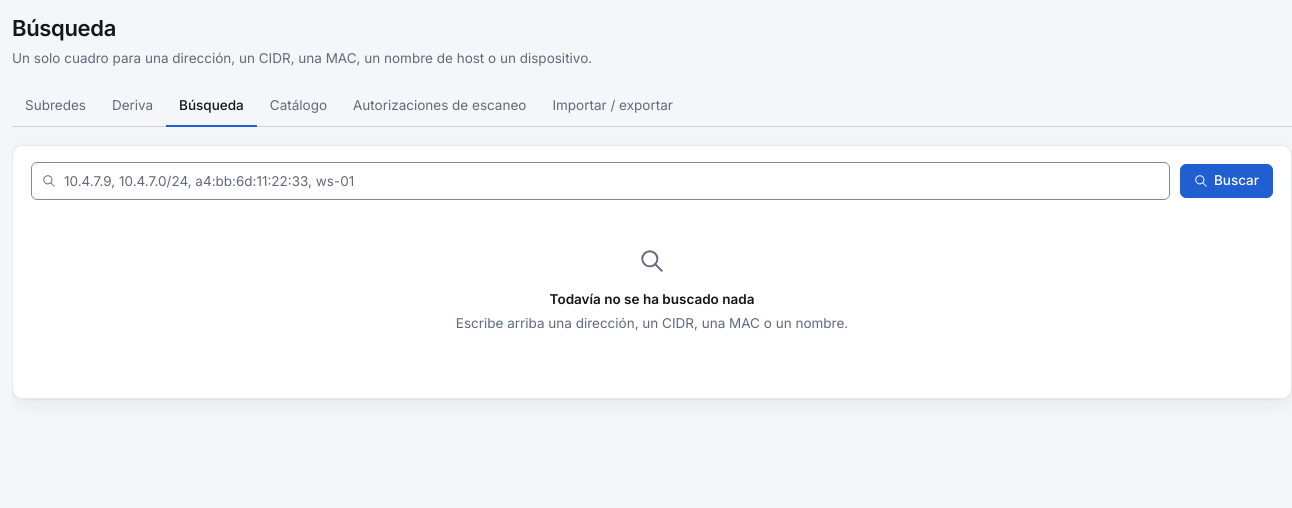
Test: the search page in Spanish › re-words a search result on a live language switch
In the field named "Buscar direcciones, subredes y dispositivos": (600, 181) [31, 162, 1170, 200], type "10.20.9.14"
Then press Enter
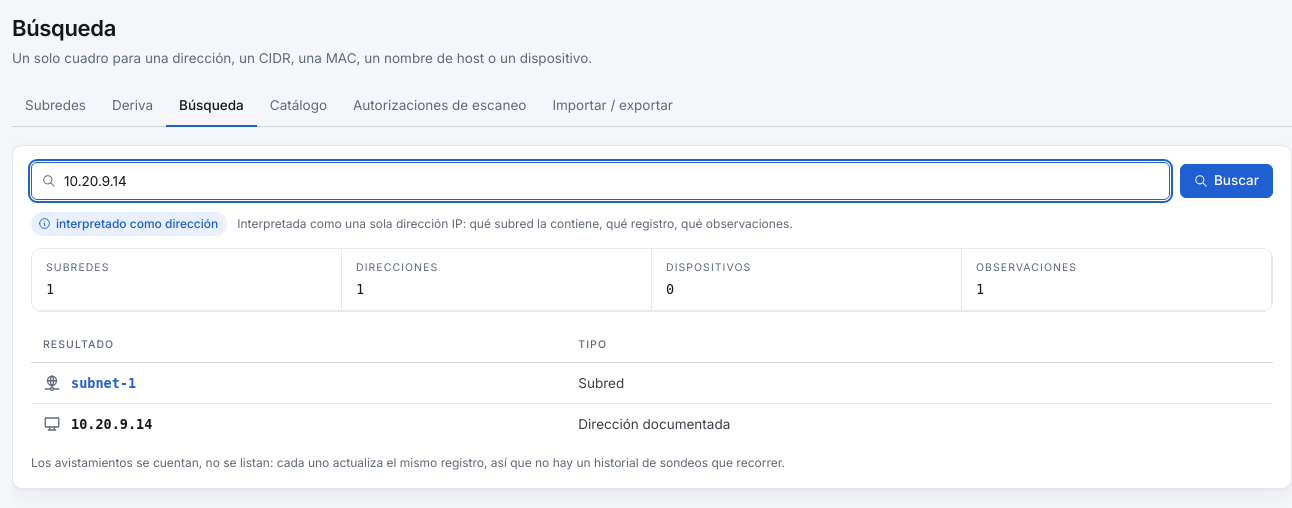
Check: the text "interpretado como dirección" is shown, box [31, 212, 227, 236]
